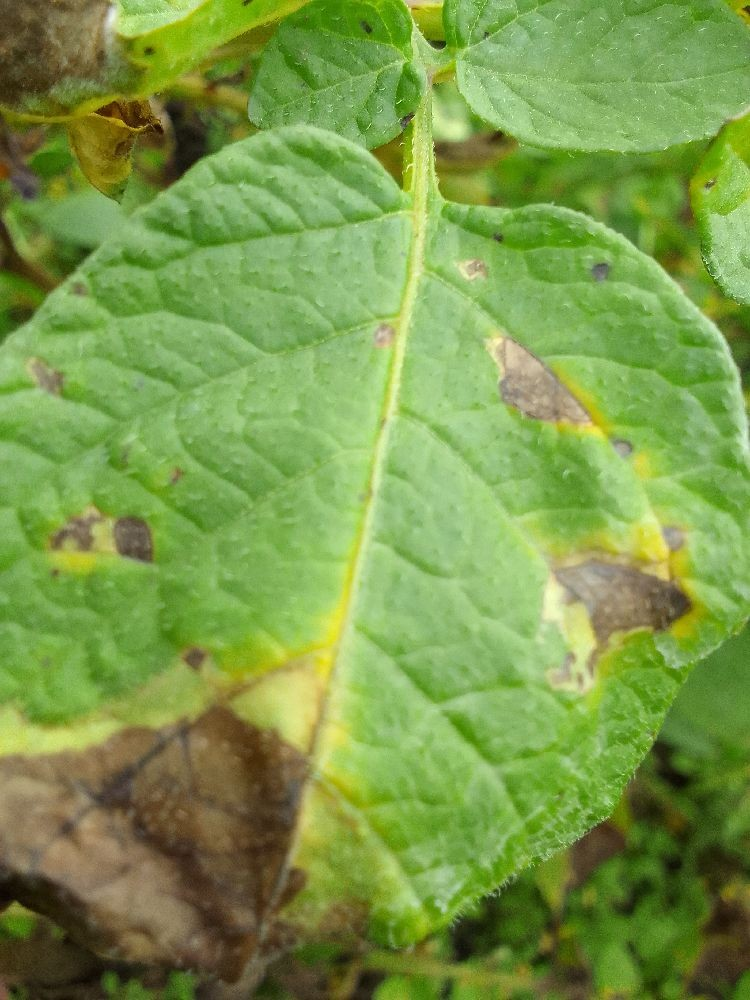late_blight: (0, 641, 394, 999), (0, 0, 316, 364), (534, 512, 710, 688), (654, 812, 750, 1000)
